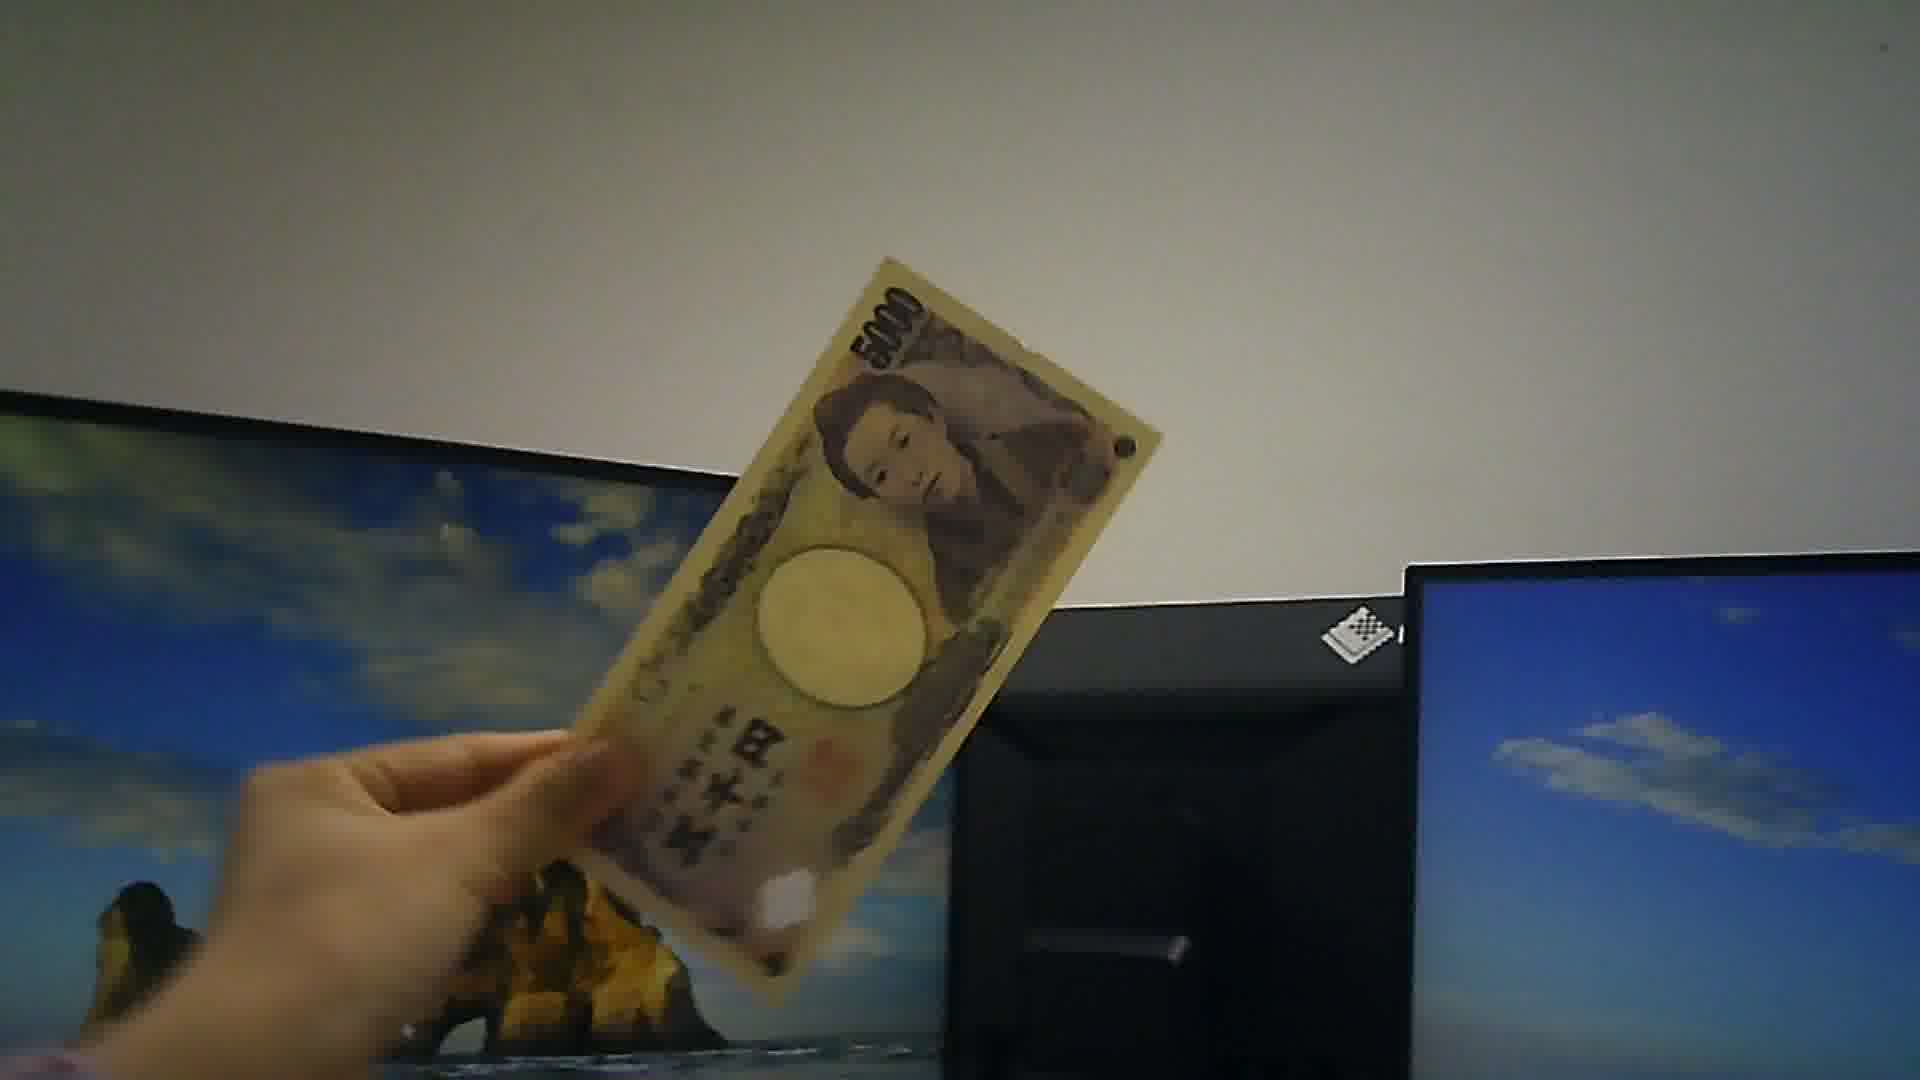5,000 Yen: (545, 237, 1218, 986)
